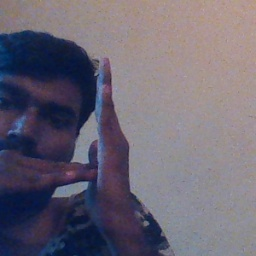Z: (33, 54, 141, 230)
